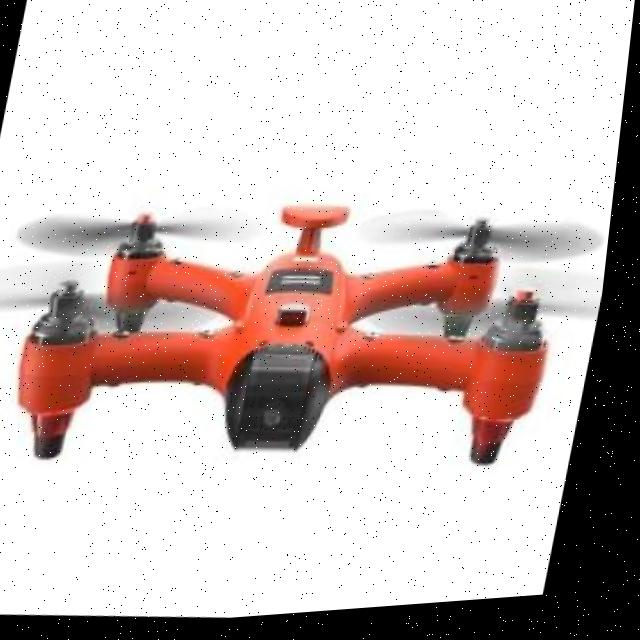drones: (0, 117, 627, 572)
